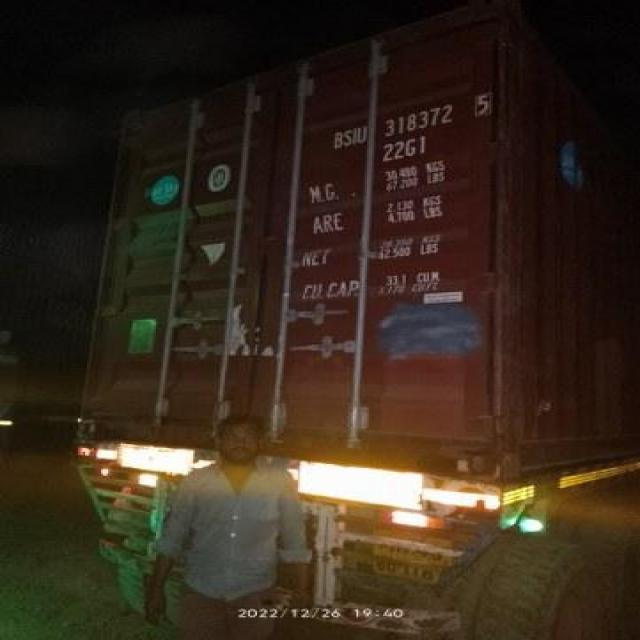ISO: (384, 138, 426, 161)
container_number: (324, 88, 500, 152)
